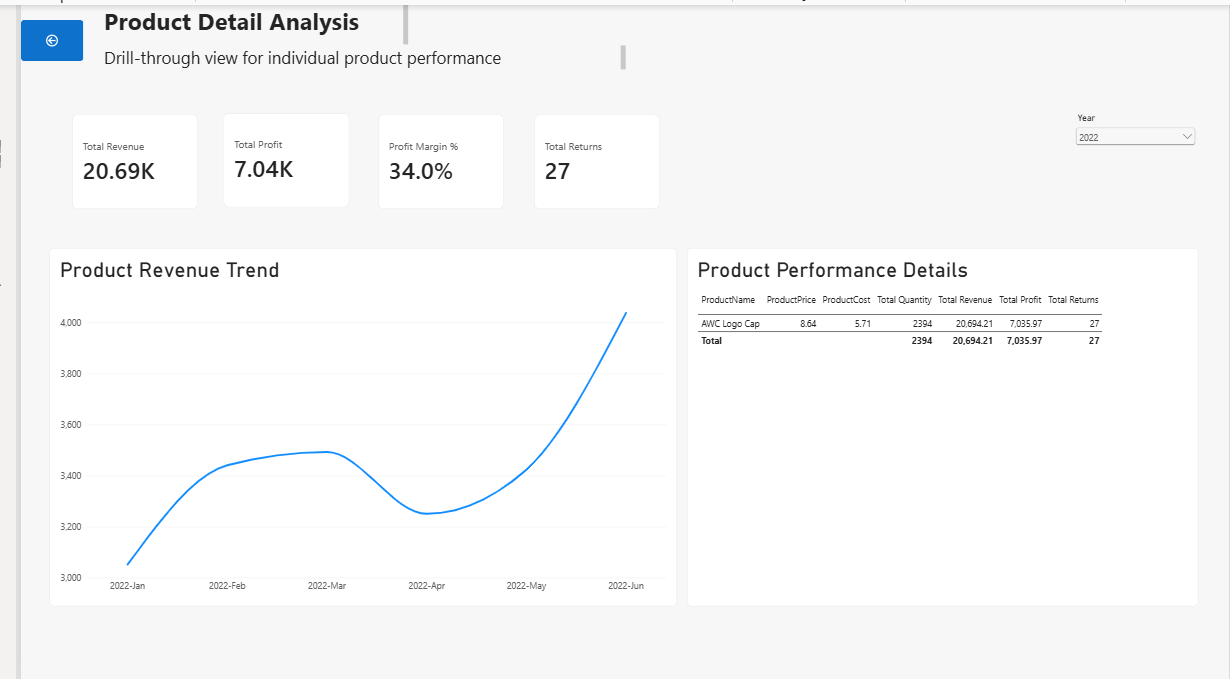

The dashboard page shown, as its layout file describes it:
{"tool":"powerbi","page":{"name":"Product Detail","canvas":[1920,1080],"ordinal":4},"visuals":[{"type":"textbox","box":[130.4,0,484.7,65.2],"z":0},{"type":"textbox","box":[130.4,65.2,830.6,45.4],"z":1000},{"type":"actionButton","box":[0,23.9,99.2,65.2],"z":2000},{"type":"lineChart","title":"Product Revenue Trend","fields":{"Category":["Calendar.Year Month"],"Y":["_Measures.Total Revenue"]},"box":[45.4,385.5,997.8,569.8],"z":3000},{"type":"tableEx","title":"Product Performance Details","fields":{"Values":["Products.ProductName","Products.ProductPrice","Products.ProductCost","_Measures.Total Quantity","_Measures.Total Revenue","_Measures.Total Profit","_Measures.Total Returns"]},"box":[1059.3,386.5,813.6,570.2],"z":4000},{"type":"slicer","fields":{"Values":["Calendar.Year"]},"box":[1672.5,171.8,200.4,150.3],"z":5000},{"type":"cardVisual","fields":{"Data":["_Measures.Total Revenue"]},"box":[81.1,174.2,200.4,150.3],"z":6000},{"type":"cardVisual","fields":{"Data":["_Measures.Total Profit"]},"box":[322.1,171.8,200.4,150.3],"z":7000},{"type":"cardVisual","fields":{"Data":["_Measures.Profit Margin %"]},"box":[567.8,174.2,200.4,150.3],"z":8000},{"type":"cardVisual","fields":{"Data":["_Measures.Total Returns"]},"box":[816,174.2,200.4,150.3],"z":9000}]}

Visuals, with their boxes in screenshot pixels (x1, y1, x2, y2), scaled from the page's 1920x1080 canvas onto the 1230x679 screenshot:
textbox: (x1=84, y1=0, x2=394, y2=41)
textbox: (x1=84, y1=41, x2=616, y2=70)
actionButton: (x1=0, y1=15, x2=64, y2=56)
"Product Revenue Trend" lineChart: (x1=29, y1=242, x2=668, y2=601)
"Product Performance Details" tableEx: (x1=679, y1=243, x2=1200, y2=601)
slicer - Calendar.Year: (x1=1071, y1=108, x2=1200, y2=203)
cardVisual - _Measures.Total Revenue: (x1=52, y1=110, x2=180, y2=204)
cardVisual - _Measures.Total Profit: (x1=206, y1=108, x2=335, y2=203)
cardVisual - _Measures.Profit Margin %: (x1=364, y1=110, x2=492, y2=204)
cardVisual - _Measures.Total Returns: (x1=523, y1=110, x2=651, y2=204)
